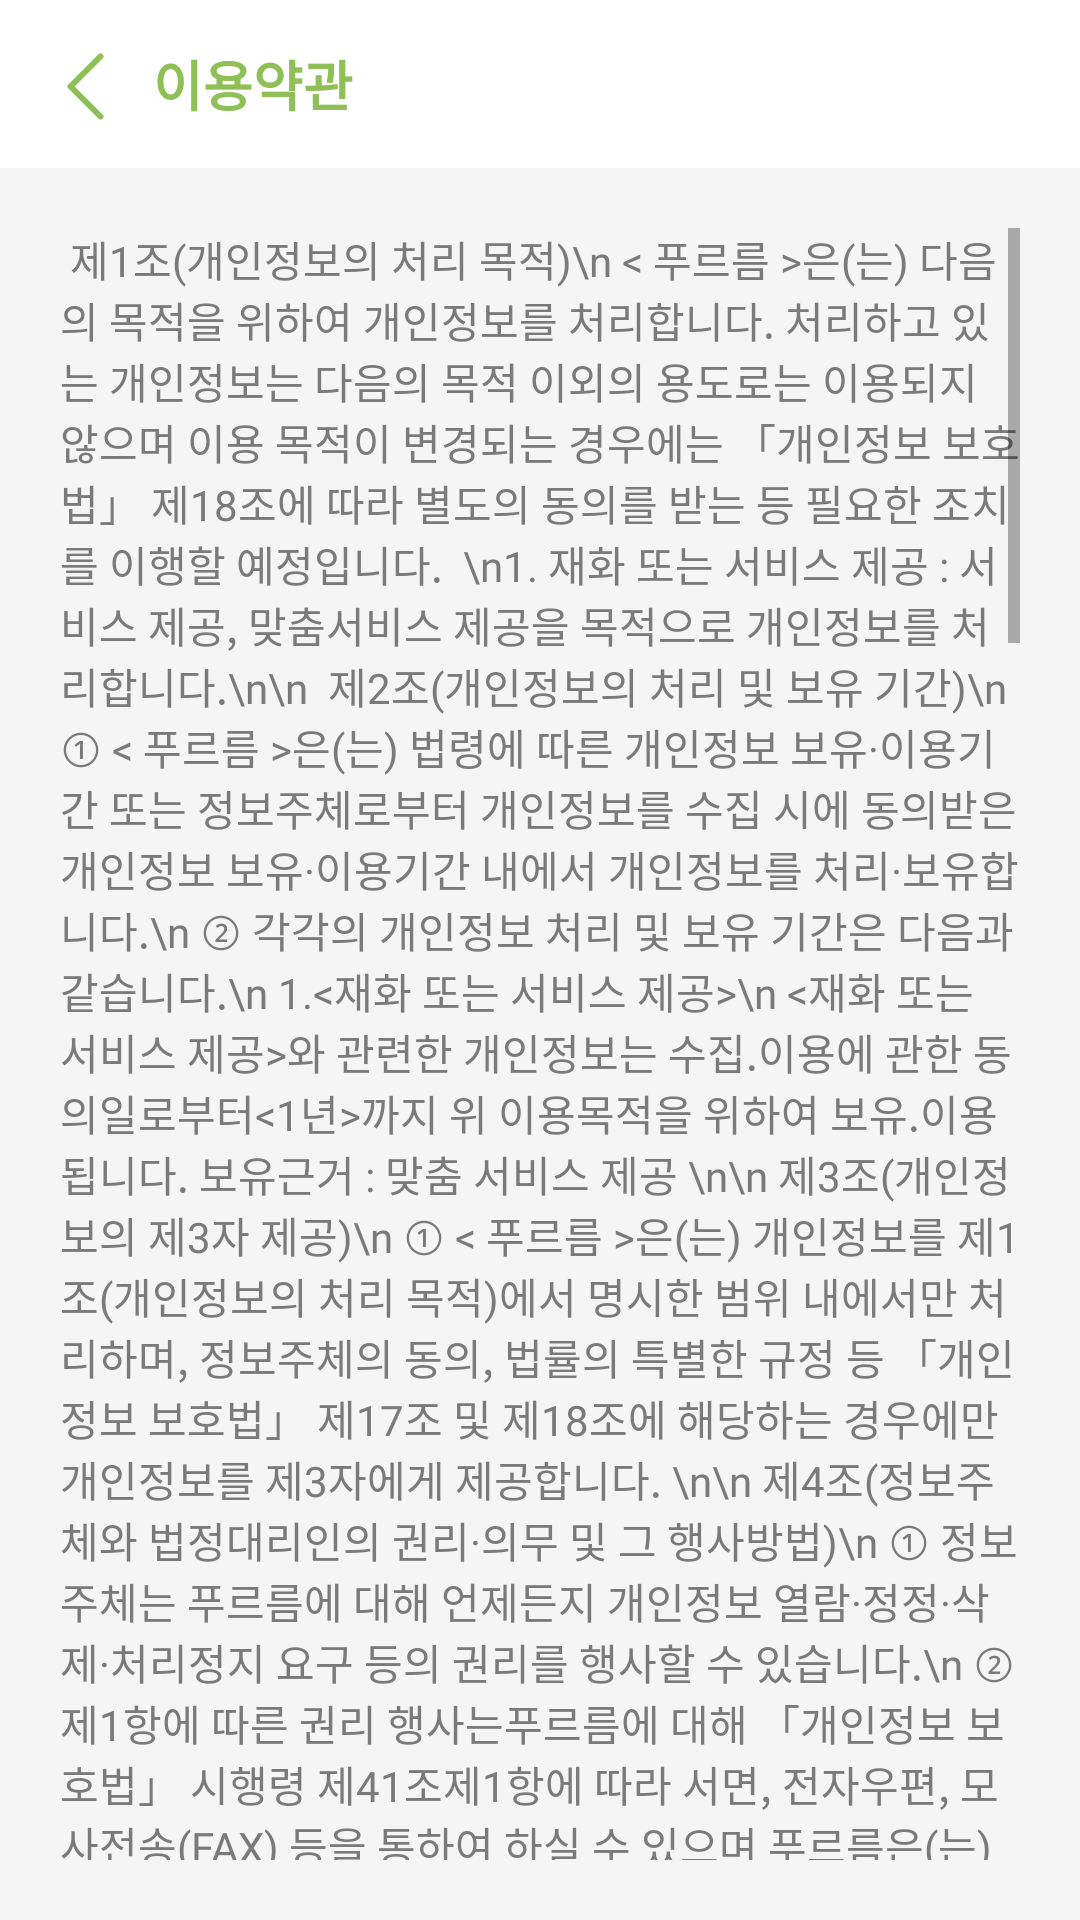

Icons on this 1080*1920 Android screen, each with its box as {"x1": x1, "y1": y1, "x2": x2, "y2": y2}:
back: {"x1": 67, "y1": 53, "x2": 104, "y2": 120}
